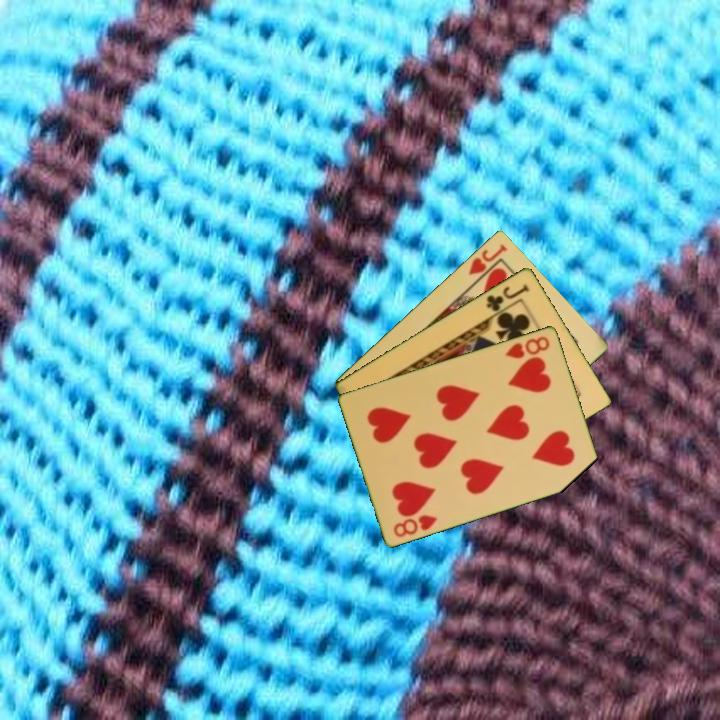8h: (390, 510, 440, 540), (502, 332, 553, 361)
Jc: (483, 280, 532, 314)
Jh: (465, 240, 510, 278)
